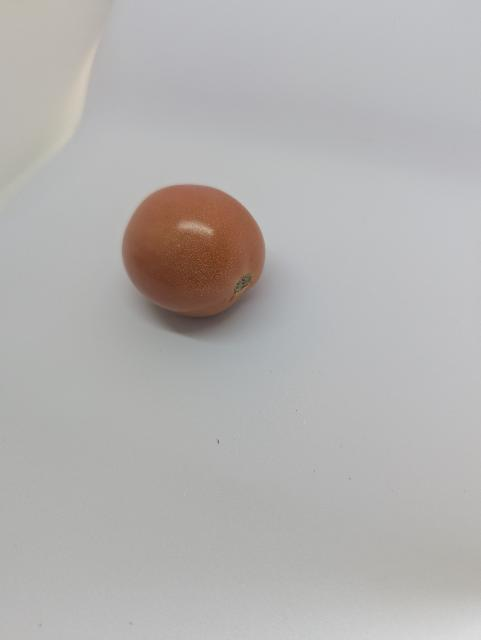red: (123, 180, 270, 322)
